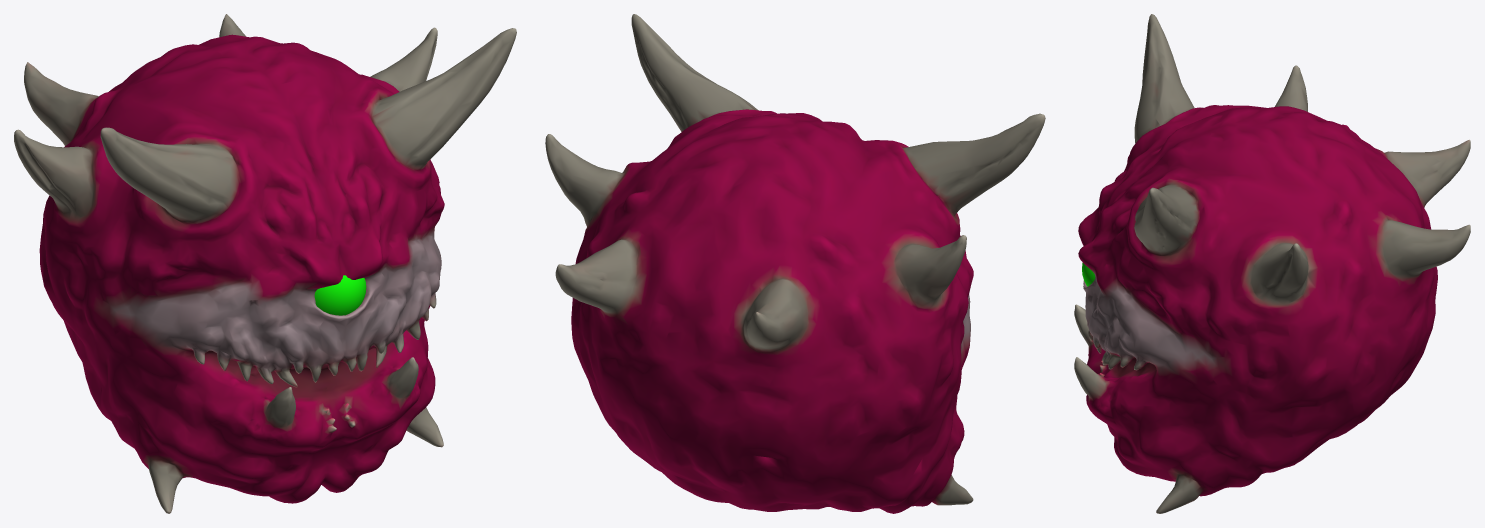
The model's file is cacodemonanimations.glb.
The picture shows the model from 3 angles, left to right: view 1: azimuth 30°, elevation 25°; view 2: azimuth 150°, elevation 25°; view 3: azimuth 270°, elevation 25°; orthographic projection. The views are drawn at different scales.
Visible parts, largest first — view 1: LowPoly, Sphere; view 2: LowPoly; view 3: LowPoly.
Boxes of the visible parts, x1,y1,x2,y2 form: LowPoly: (14,14,516,513); Sphere: (314,275,366,315); LowPoly: (545,14,1045,513); LowPoly: (1074,14,1470,513).
Size of the model in its own units: 829 by 776 by 770.
